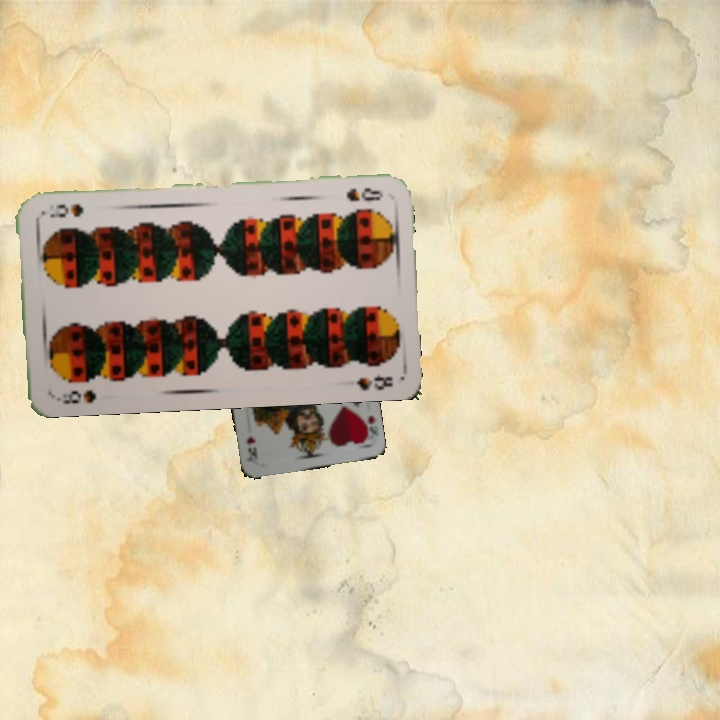HK: (363, 411, 378, 436)
S8: (47, 384, 99, 406), (343, 184, 386, 204)
